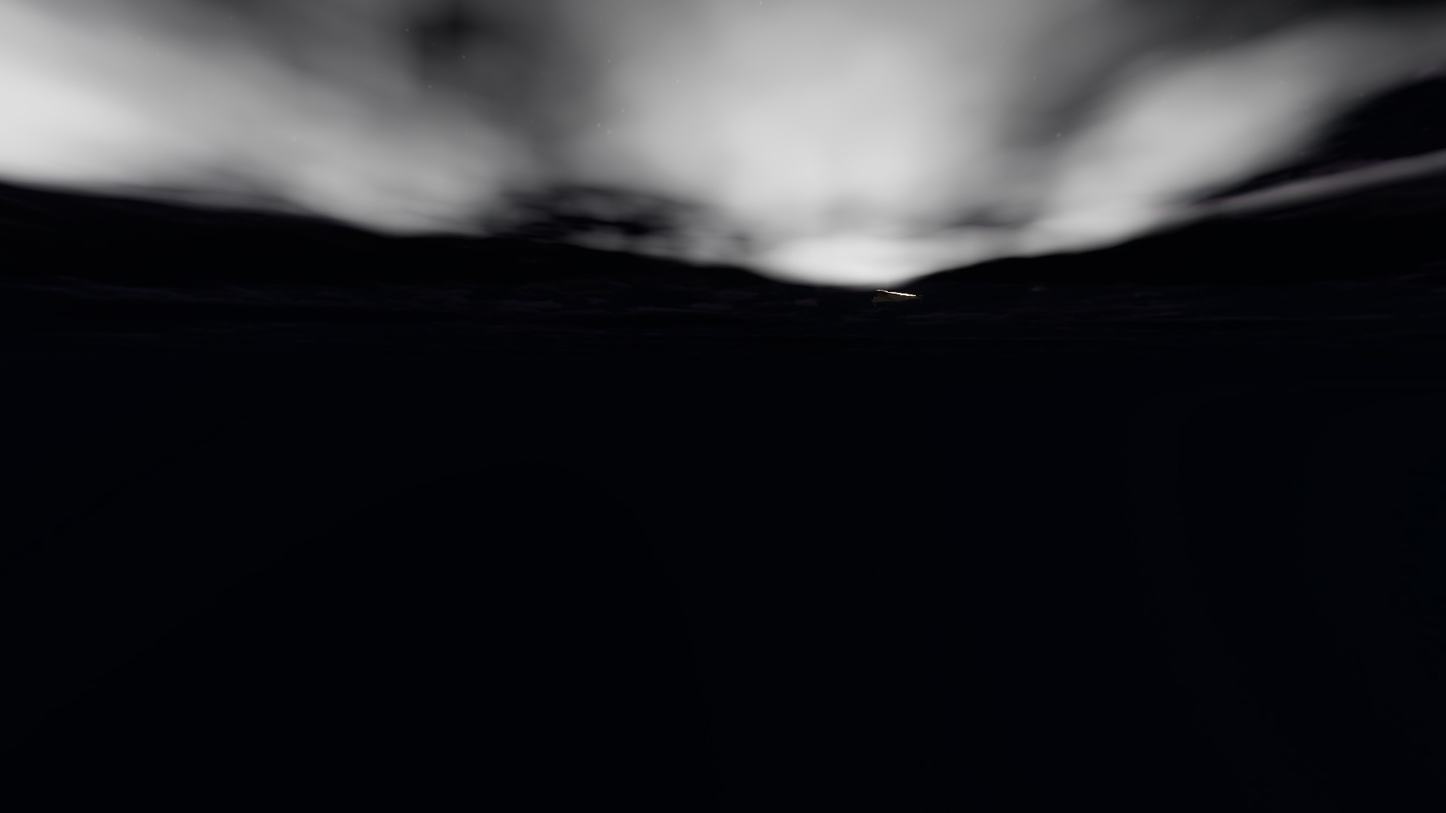shahed: (871, 290, 923, 308)
